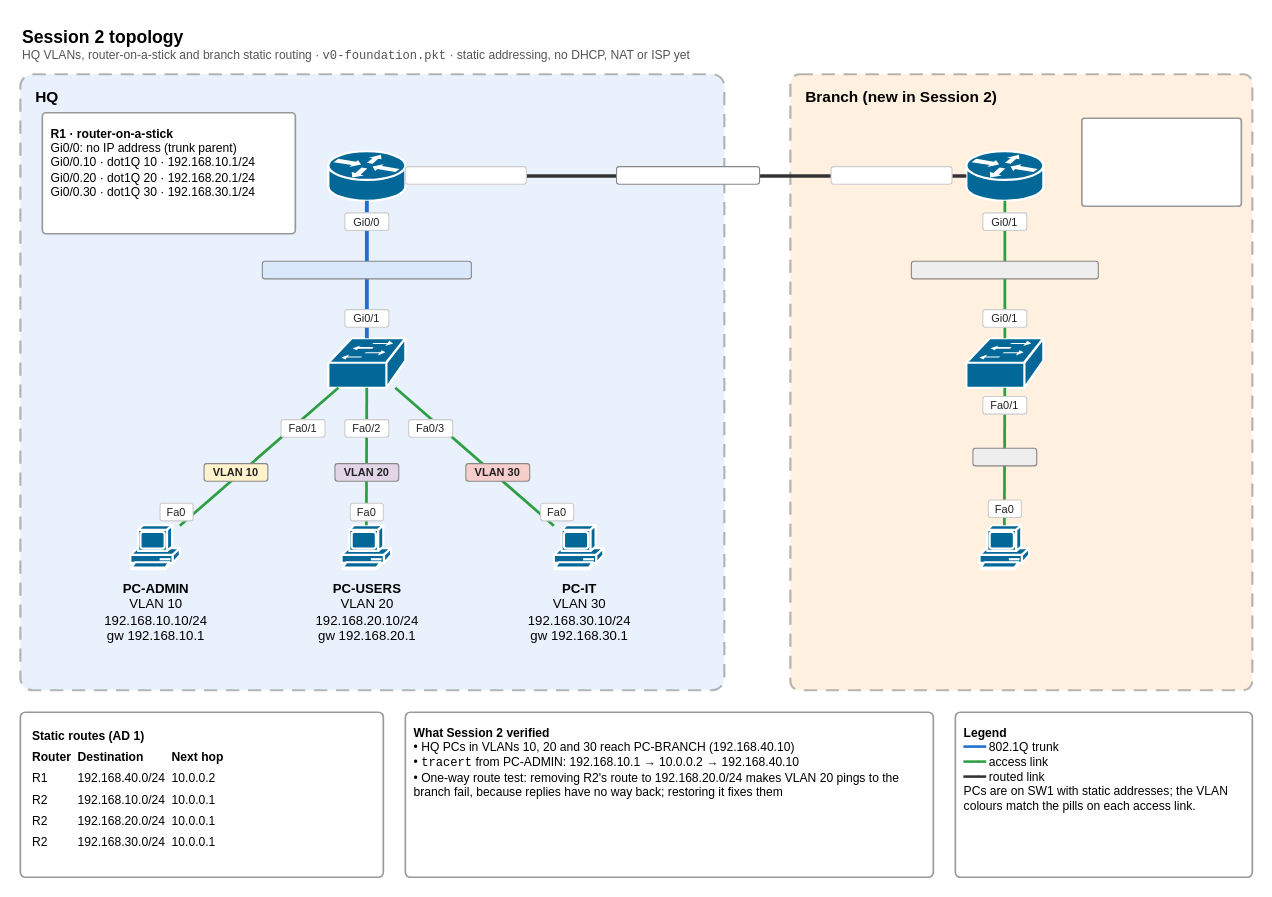
Some shapes in this 1272 by 897 pixel diagram are drawn without their labels. Each missing label, with the centre of its shape:
10.0.0.0/30 transit: [687,175]
192.168.40.0/24 · gw .1: [1004,269]
802.1Q trunk · VLANs 10, 20, 30: [366,269]
Gi0/0 · 10.0.0.2/30: [891,175]
Gi0/1 · 10.0.0.1/30: [465,175]
PC-BRANCH VLAN 1 192.168.40.10/24 gw 192.168.40.1: [1004,547]
R1 · Cisco 2911 HQ router: [366,175]
R2 · branch gateway Gi0/1 · 192.168.40.1/24 (LAN) Gi0/0 · 10.0.0.2/30 (transit): [1161,162]
R2 · Cisco 2911 Branch router: [1004,175]
SW1 · 2960 VLANs 10, 20, 30: [366,362]
SW4 · 2960 VLAN 1 (default): [1004,362]
VLAN 1: [1004,456]
